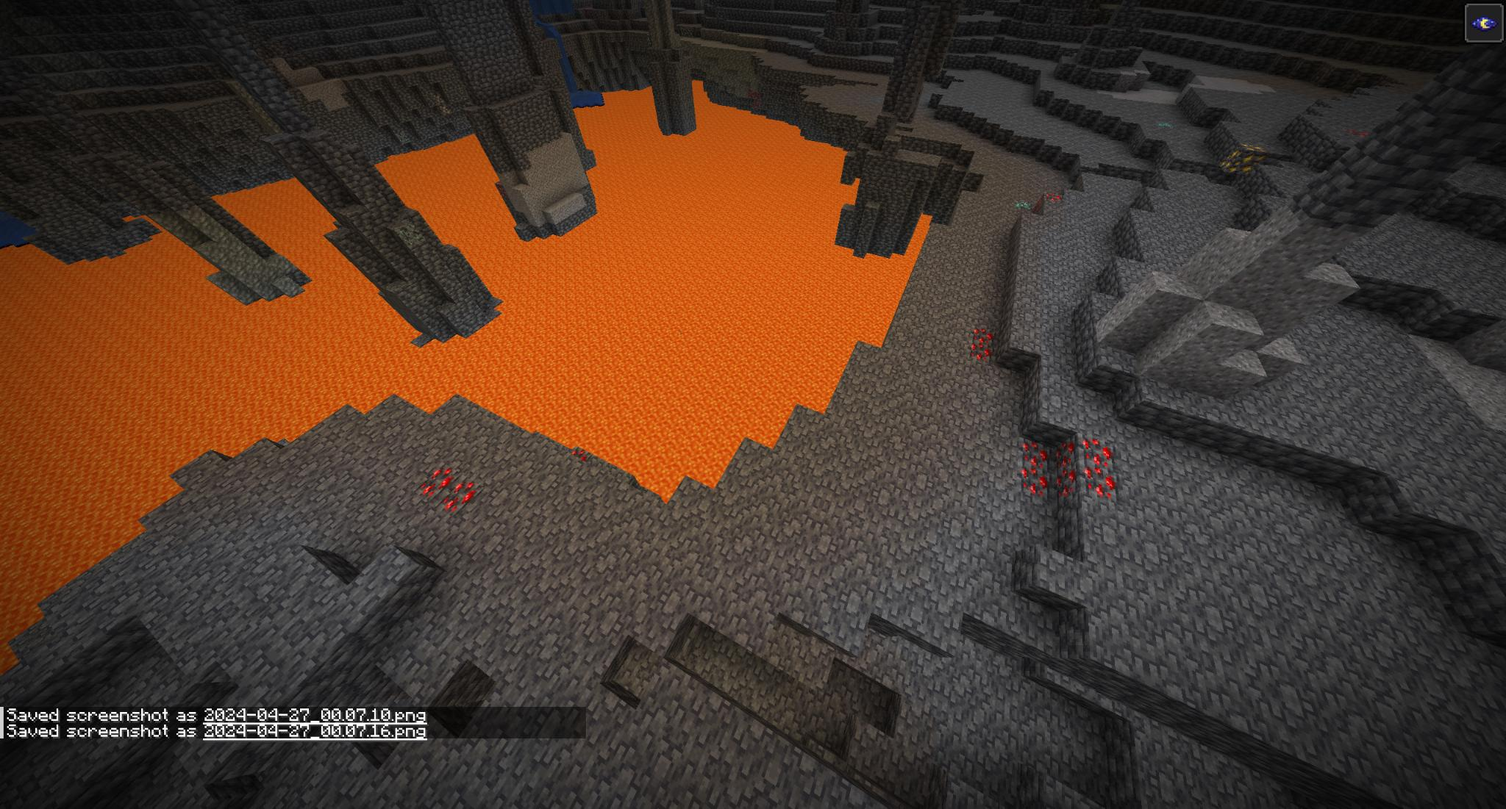gold ore: (1223, 143, 1267, 178)
redstone ore: (419, 468, 471, 514), (1082, 435, 1114, 469), (1014, 439, 1048, 469), (1019, 467, 1049, 497), (1084, 470, 1116, 498), (968, 326, 994, 359), (1054, 438, 1080, 470), (1056, 472, 1080, 498)
